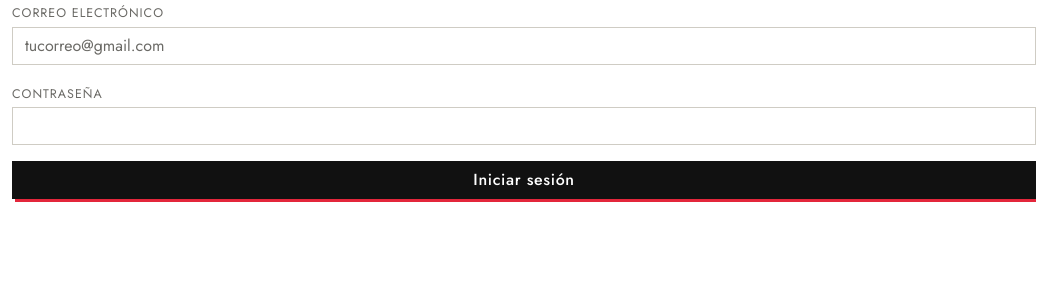
Test: Las 10 pruebas de la defensa › 7. FormularioLogin envía los datos al servicio (mock) y muestra el error que este responde
This screenshot has width=1048, height=293.
Type "ana@gmail.com" into the field labelled "Correo electrónico" at x=524, y=46, box left=12, top=27, right=1036, bottom=65
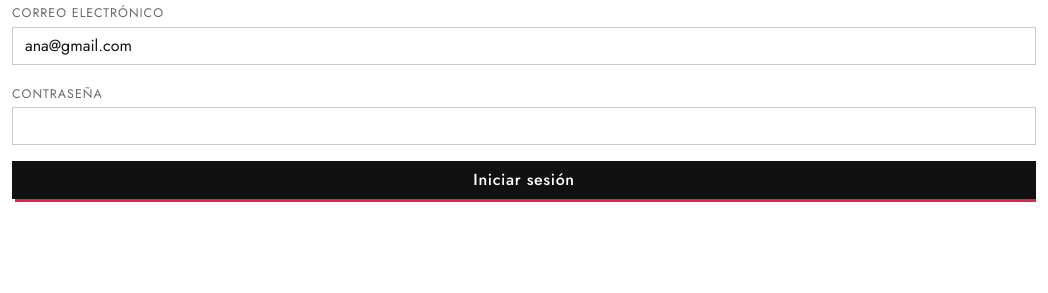
Type "Clave#12" into the password field labelled "Contraseña" at x=524, y=126, box left=12, top=107, right=1036, bottom=145
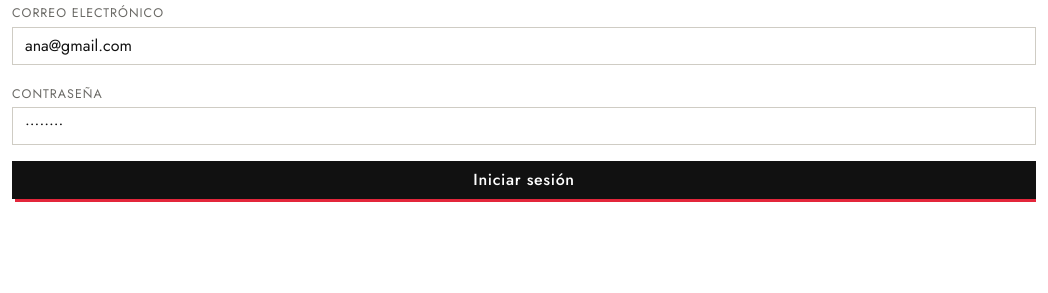
Click the button "Iniciar sesión" at x=524, y=180, box left=12, top=161, right=1036, bottom=199
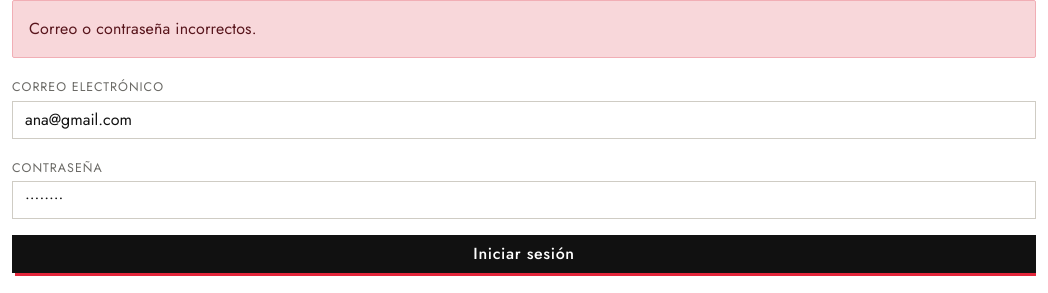
Expected: the message reads "Correo o contraseña incorrectos.", left=29, top=17, right=257, bottom=40
